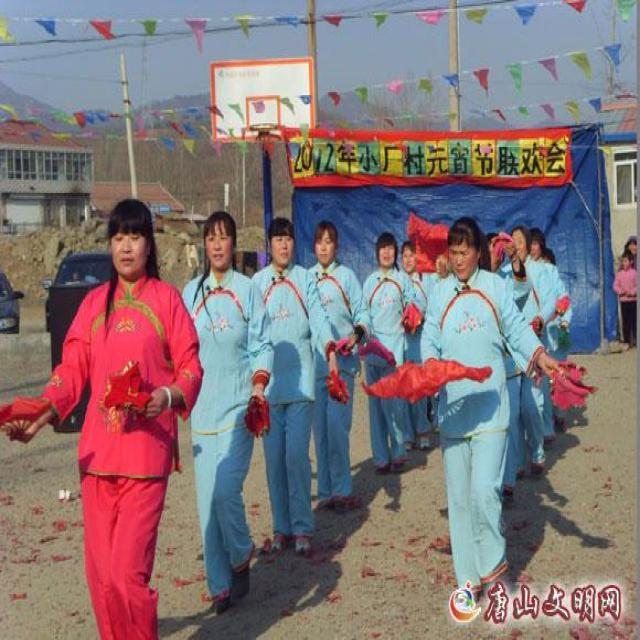non-fight: (10, 199, 204, 640), (421, 217, 563, 604), (180, 215, 274, 614), (249, 220, 338, 558), (304, 223, 365, 519), (360, 236, 417, 474), (614, 250, 636, 347)
